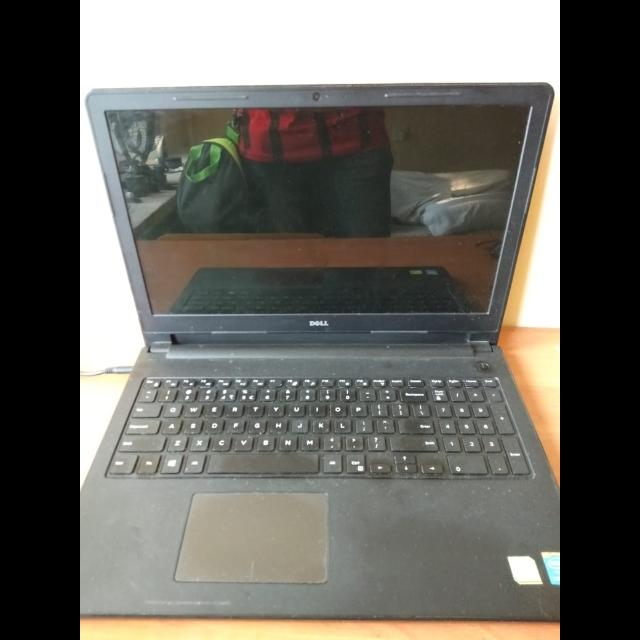Laptop: (86, 76, 560, 626)
